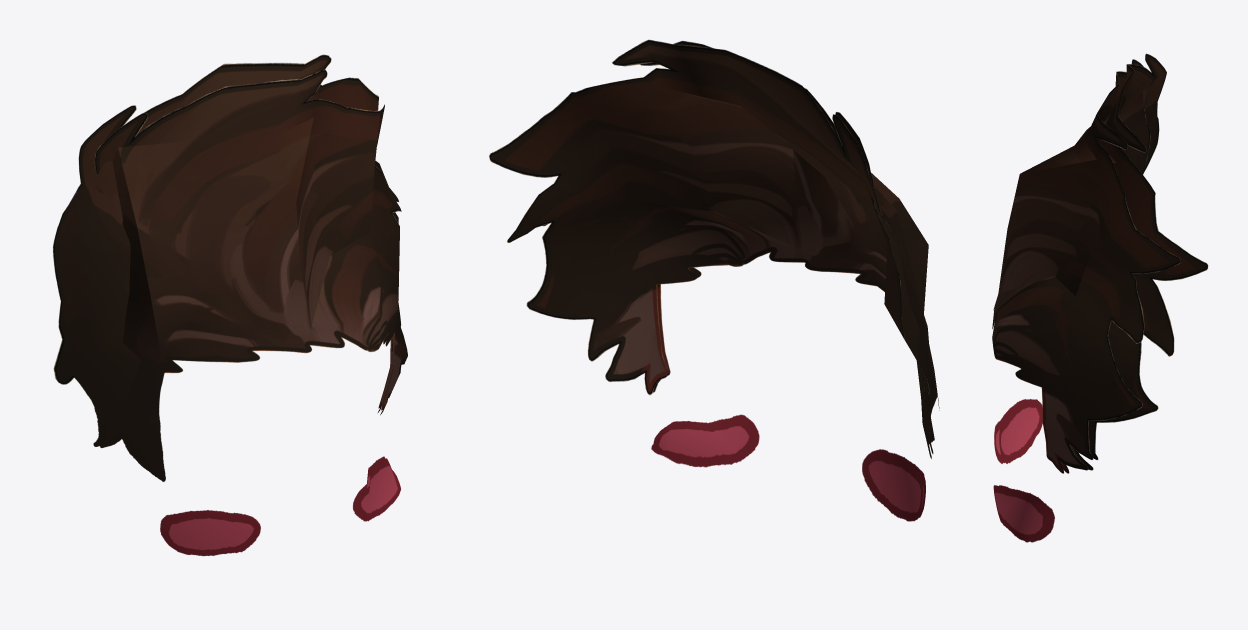
The model's file is Filter01 old.glb.
3 views of the same model, side by side, from view 1: azimuth 30°, elevation 25°; view 2: azimuth 150°, elevation 25°; view 3: azimuth 270°, elevation 25° (orthographic). The views are drawn at different scales.
Visible parts, largest first — view 1: Filter01; view 2: Filter01; view 3: Filter01.
Part boxes in pixels (<box>): Filter01: <box>53,54,407,556</box>; Filter01: <box>489,39,939,521</box>; Filter01: <box>992,53,1208,542</box>.
Bounding box in the file's own units: 0.22 × 0.2758 × 0.1245.
1 material, 1 textured.
